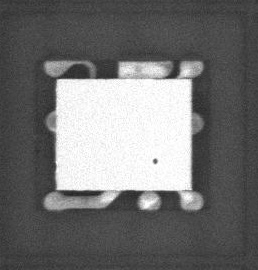DIE_INK: (143, 162, 152, 175)
